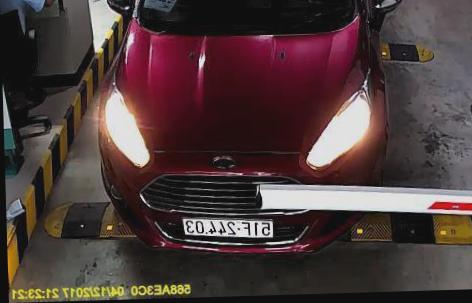License_Plate: (181, 214, 278, 242)
